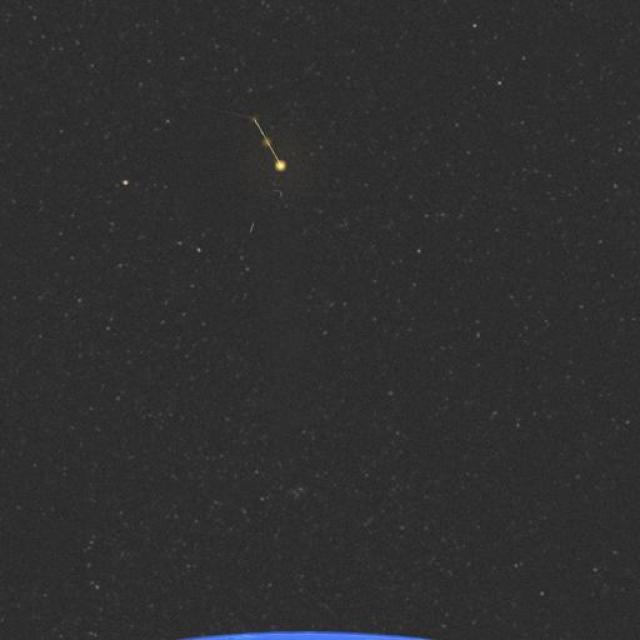earth_observation_sat_1: (125, 27, 421, 268)
